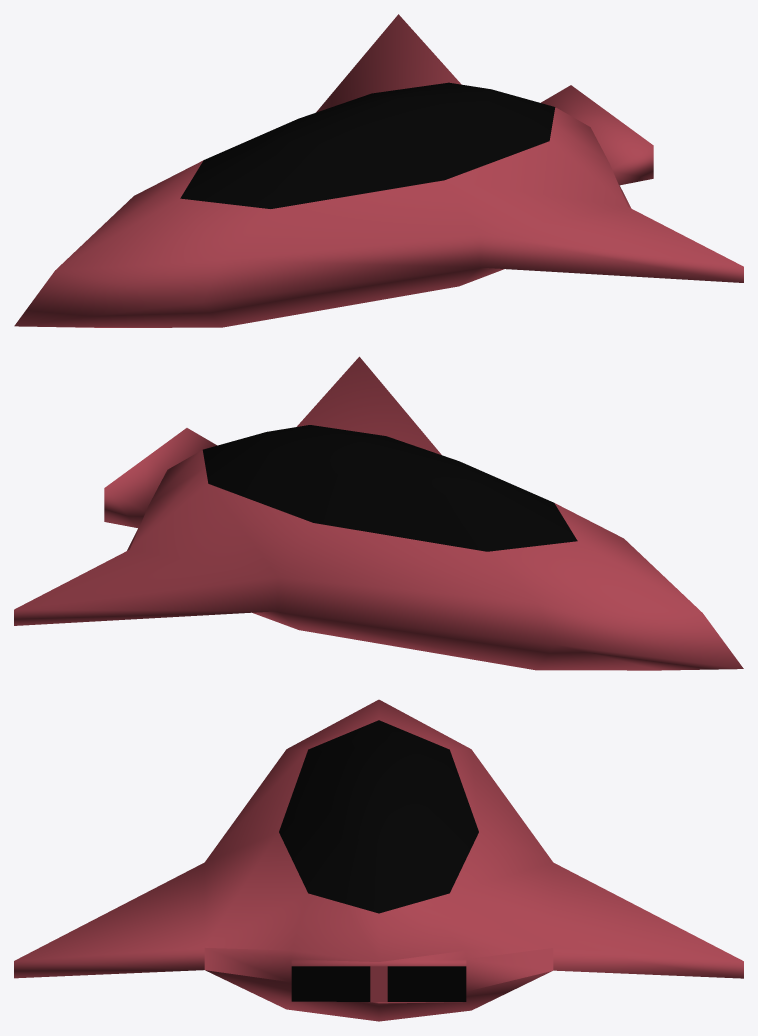
File: Nave.fbx
3 renders of one model, top to bottom at view 1: azimuth 30°, elevation 25°; view 2: azimuth 150°, elevation 25°; view 3: azimuth 270°, elevation 25°, orthographic. The views are drawn at different scales.
Parts seen in each view (by area): view 1: Nave; view 2: Nave; view 3: Nave.
Part boxes in pixels (x1,y1,x2,y2): Nave: [14, 14, 743, 327]; Nave: [14, 356, 743, 670]; Nave: [14, 699, 743, 1021].
Bounding box in the file's own units: 400 × 100 × 400.
